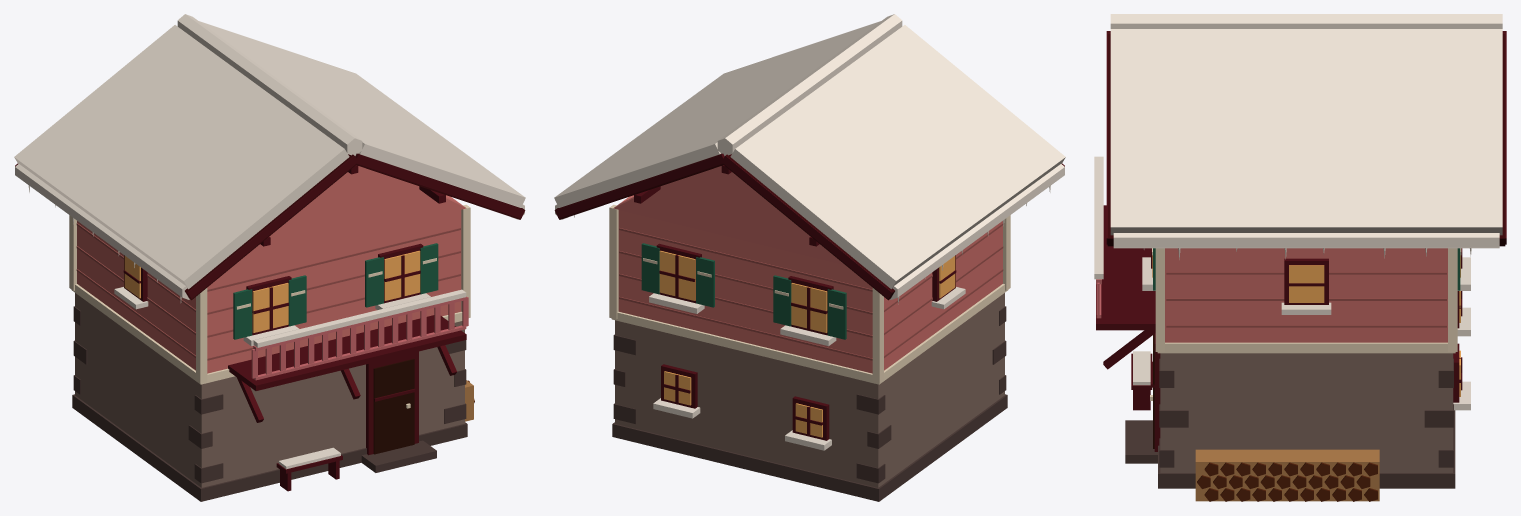
The model's file is rs_chalet.glb.
3 views of the same model, side by side, from view 1: azimuth 30°, elevation 25°; view 2: azimuth 150°, elevation 25°; view 3: azimuth 270°, elevation 25° (orthographic). The views are drawn at different scales.
Parts seen in each view (by area): view 1: roof, body, balcony, door; view 2: body, roof; view 3: roof, body, balcony, door.
Part boxes in pixels (x1=…): roof: x1=14, y1=14, x2=525, y2=303; body: x1=69, y1=195, x2=474, y2=501; balcony: x1=228, y1=289, x2=468, y2=422; door: x1=361, y1=351, x2=436, y2=472; body: x1=609, y1=195, x2=1010, y2=501; roof: x1=554, y1=14, x2=1065, y2=304; roof: x1=1106, y1=14, x2=1506, y2=259; body: x1=1131, y1=248, x2=1470, y2=501; balcony: x1=1094, y1=156, x2=1155, y2=369; door: x1=1125, y1=333, x2=1160, y2=463.
Bounding box in the file's own units: 7.81 × 7.54 × 7.05.
